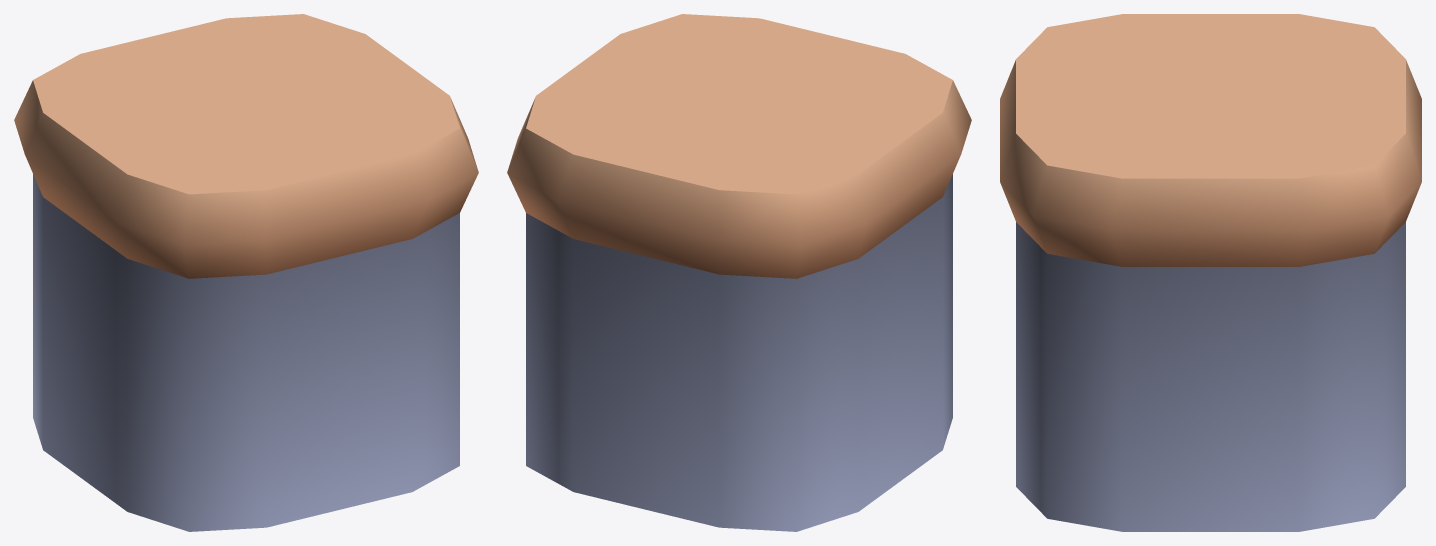
The model's file is block-grass.glb.
The picture shows the model from 3 angles, left to right: view 1: azimuth 30°, elevation 25°; view 2: azimuth 150°, elevation 25°; view 3: azimuth 270°, elevation 25°; orthographic projection. The views are drawn at different scales.
Parts seen in each view (by area): view 1: block-grass; view 2: block-grass; view 3: block-grass.
Part boxes in pixels (box(x1,y1,x2,y2)): block-grass: box(14, 14, 478, 531); block-grass: box(507, 14, 971, 531); block-grass: box(1000, 14, 1421, 531).
Size of the model in its own units: 1.08 by 1 by 1.08.
